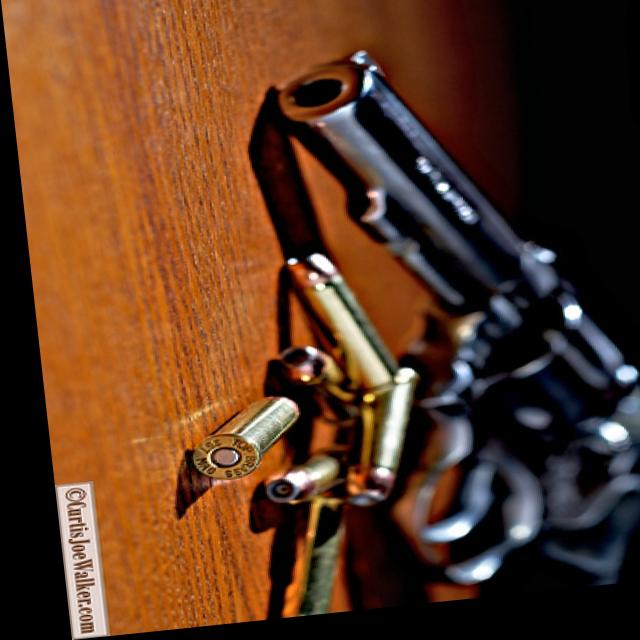handgun: (260, 33, 640, 597)
